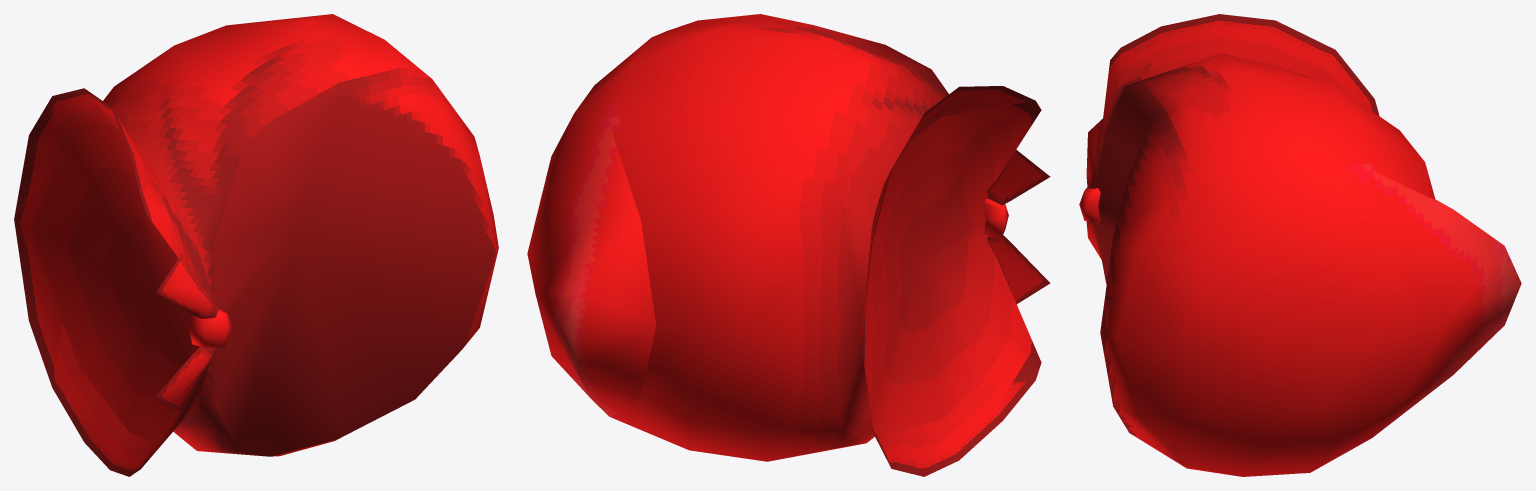
Rendered from hlmt_redhood.dae.
The picture shows the model from 3 angles, left to right: view 1: azimuth 30°, elevation 25°; view 2: azimuth 150°, elevation 25°; view 3: azimuth 270°, elevation 25°; orthographic projection. The views are drawn at different scales.
Visible parts, largest first — view 1: hlmt_redhood; view 2: hlmt_redhood; view 3: hlmt_redhood.
Boxes of the visible parts, x1,y1,x2,y2 form: hlmt_redhood: (14, 14, 498, 476); hlmt_redhood: (527, 14, 1050, 476); hlmt_redhood: (1079, 14, 1521, 476).
Size of the model in its own units: 23.63 by 23.09 by 24.92.
Materials: 1 (1 with a texture image).
